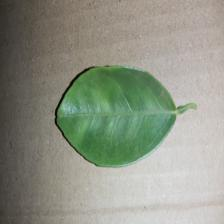greening: (54, 63, 199, 169)
